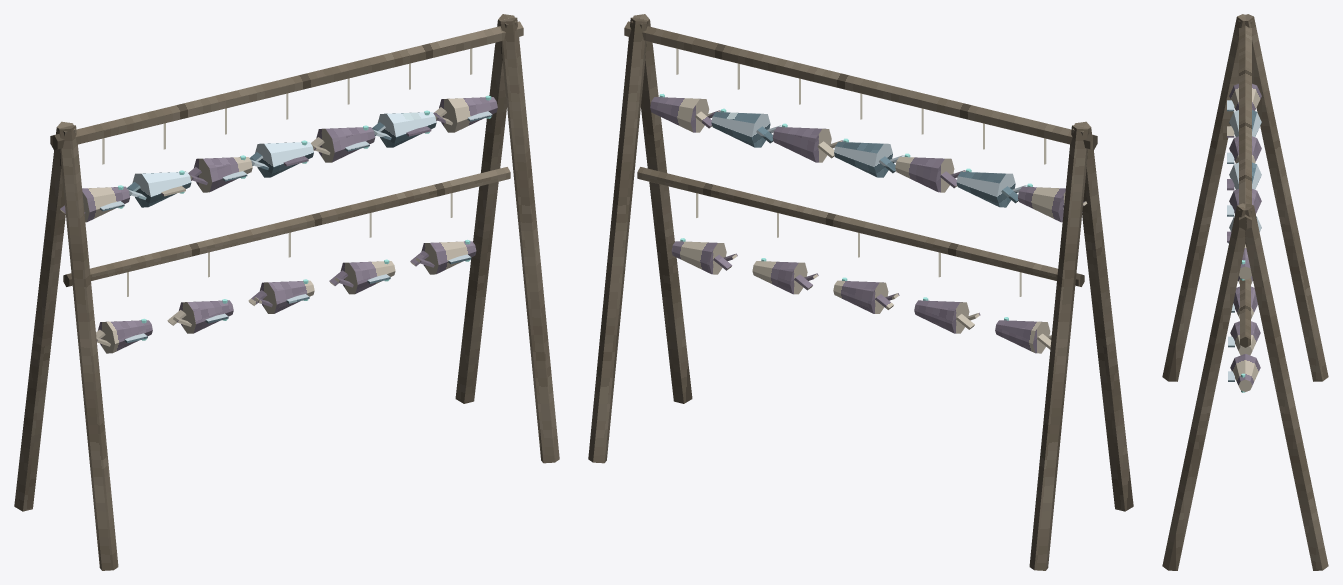
File: fish_rack.obj
3 views of the same model, side by side, from view 1: azimuth 30°, elevation 25°; view 2: azimuth 150°, elevation 25°; view 3: azimuth 270°, elevation 25° (orthographic). The views are drawn at different scales.
Parts seen in each view (by area): view 1: fish_rack; view 2: fish_rack; view 3: fish_rack.
Part boxes in pixels (x1=…): fish_rack: x1=14, y1=14, x2=559, y2=570; fish_rack: x1=588, y1=14, x2=1133, y2=570; fish_rack: x1=1162, y1=14, x2=1328, y2=570.
Bounding box in the file's own units: 1.9 × 1.61 × 0.6688.
